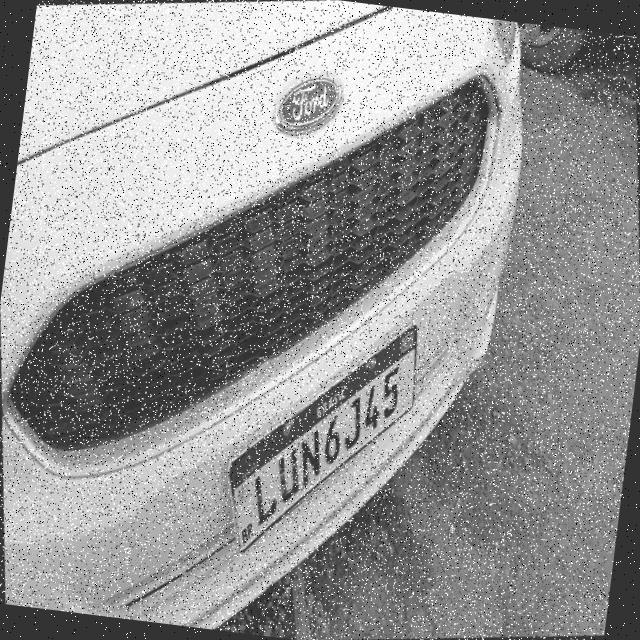numeros: (270, 441, 306, 506), (292, 425, 326, 490), (247, 470, 284, 529), (335, 392, 368, 454), (376, 361, 406, 421), (316, 410, 346, 467), (356, 381, 386, 433)
